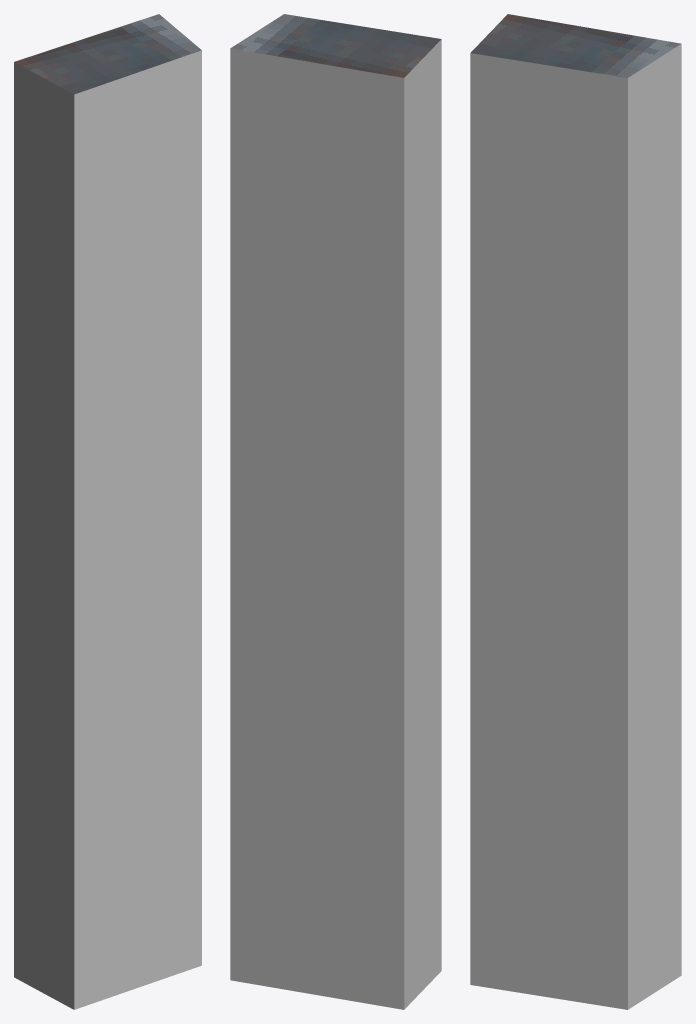
Rendered from DEBW_0010007THvm.gltf.
3 views of the same model, side by side, from view 1: azimuth 30°, elevation 25°; view 2: azimuth 150°, elevation 25°; view 3: azimuth 330°, elevation 25° (orthographic).
Parts seen in each view (by area): view 1: Z_UP; view 2: Z_UP; view 3: Z_UP.
Part boxes in pixels (x1,y1,x2,y2): Z_UP: (14,14,201,1009); Z_UP: (230,14,441,1009); Z_UP: (470,14,681,1009).
Size of the model in its own units: 2.84 by 15.73 by 1.91.
2 materials, 1 textured.
